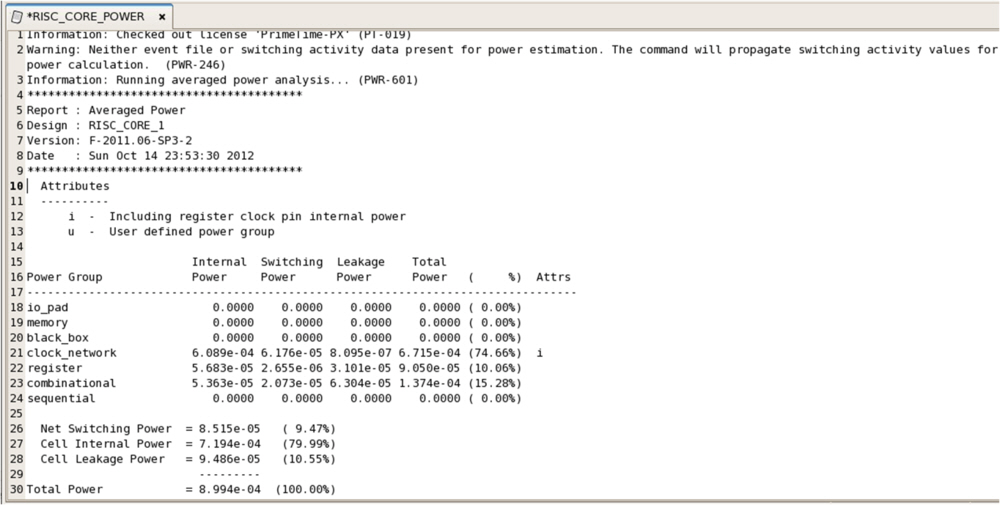table: (26, 249, 589, 407)
